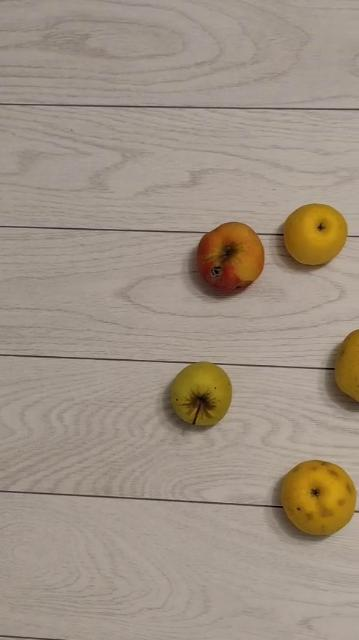apple_green: (281, 459, 357, 536), (281, 204, 350, 267), (170, 361, 232, 426), (333, 327, 359, 407)
apple_red: (195, 221, 265, 297)
